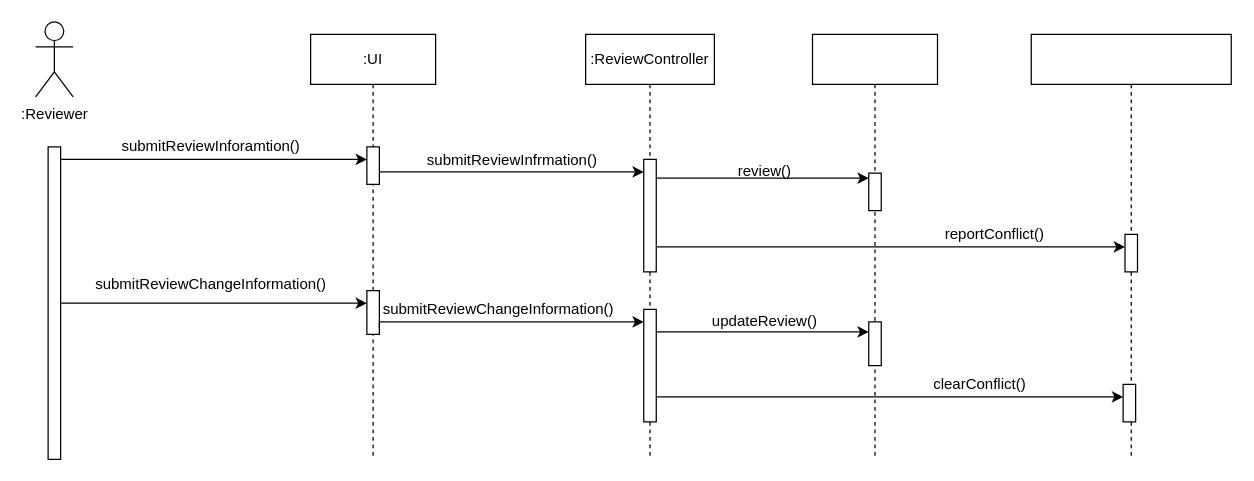
Some shapes in this 1254 by 481 pixel diagram are drawn without their labels. The centre of each missing label's shape, as x and y in pixels:
":PapersRepository" goes at point 1130,246.
":ReviewRepository" goes at point 874,246.
